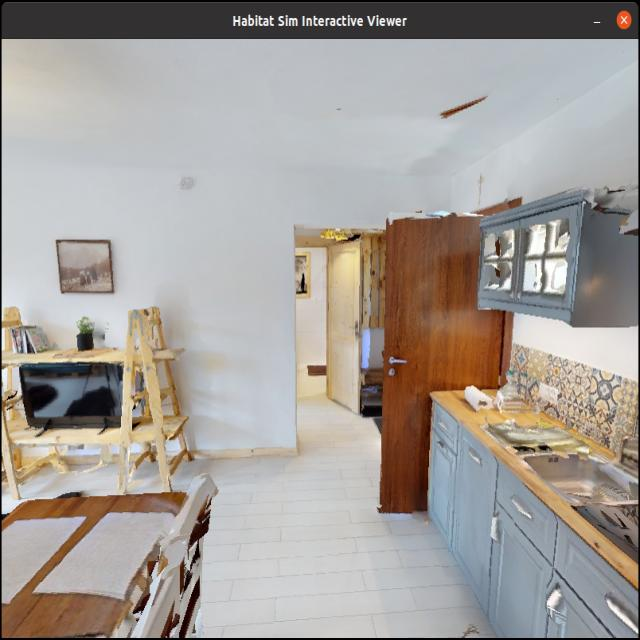door: (365, 202, 521, 524)
door-frame: (287, 214, 397, 467)
table: (0, 443, 237, 639)
